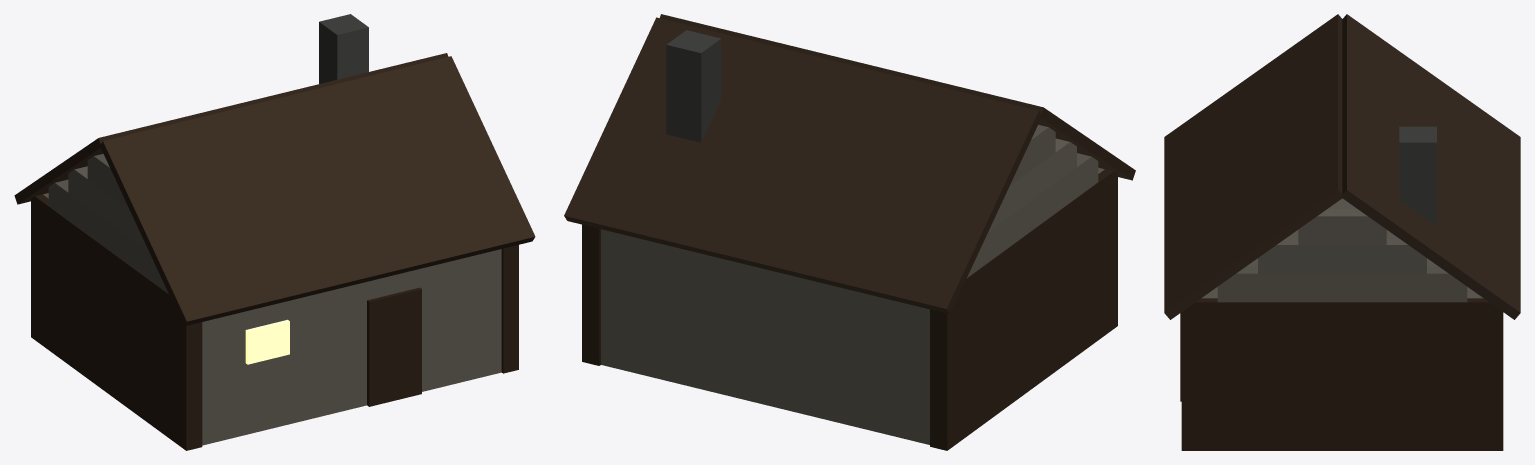
File: cottage.glb
3 views of the same model, side by side, from view 1: azimuth 30°, elevation 25°; view 2: azimuth 150°, elevation 25°; view 3: azimuth 270°, elevation 25° (orthographic). The views are drawn at different scales.
Visible parts, largest first — view 1: Cottage; view 2: Cottage; view 3: Cottage.
Part boxes in pixels (left/top/right/bottom): Cottage: left=14, top=14, right=535, bottom=450; Cottage: left=564, top=14, right=1135, bottom=450; Cottage: left=1164, top=14, right=1520, bottom=450.
Bounding box in the file's own units: 6.6 × 5 × 5.66.
